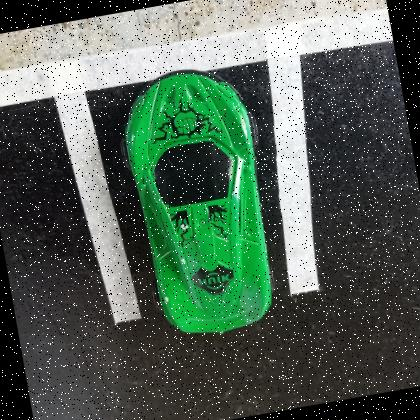Car: (123, 69, 273, 333)
